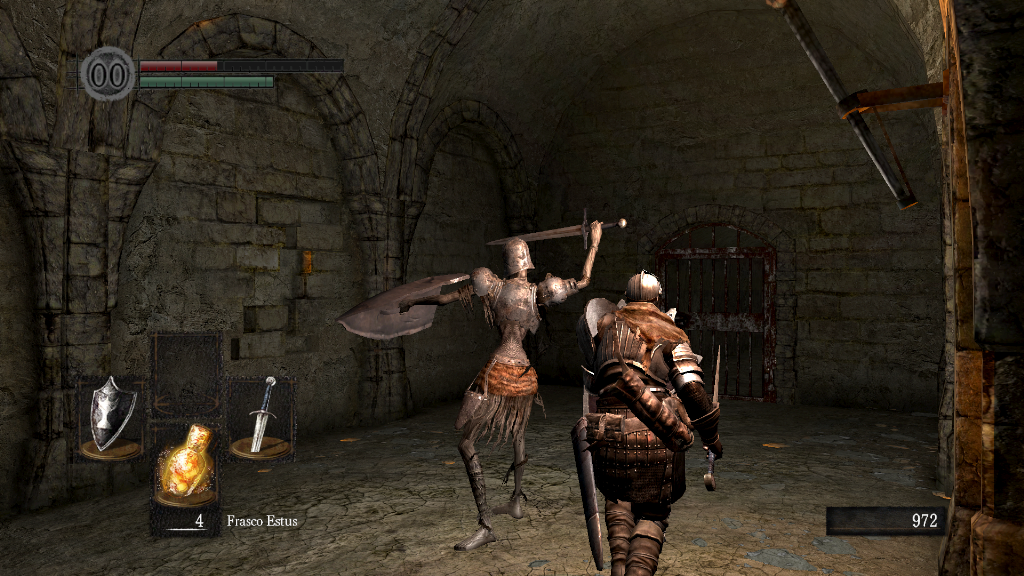health: (138, 58, 343, 71)
humanity: (80, 45, 136, 102)
player: (576, 270, 725, 576)
souls: (825, 506, 945, 536)
stamina: (138, 74, 274, 88)
undeadSoldier: (402, 216, 604, 554)
